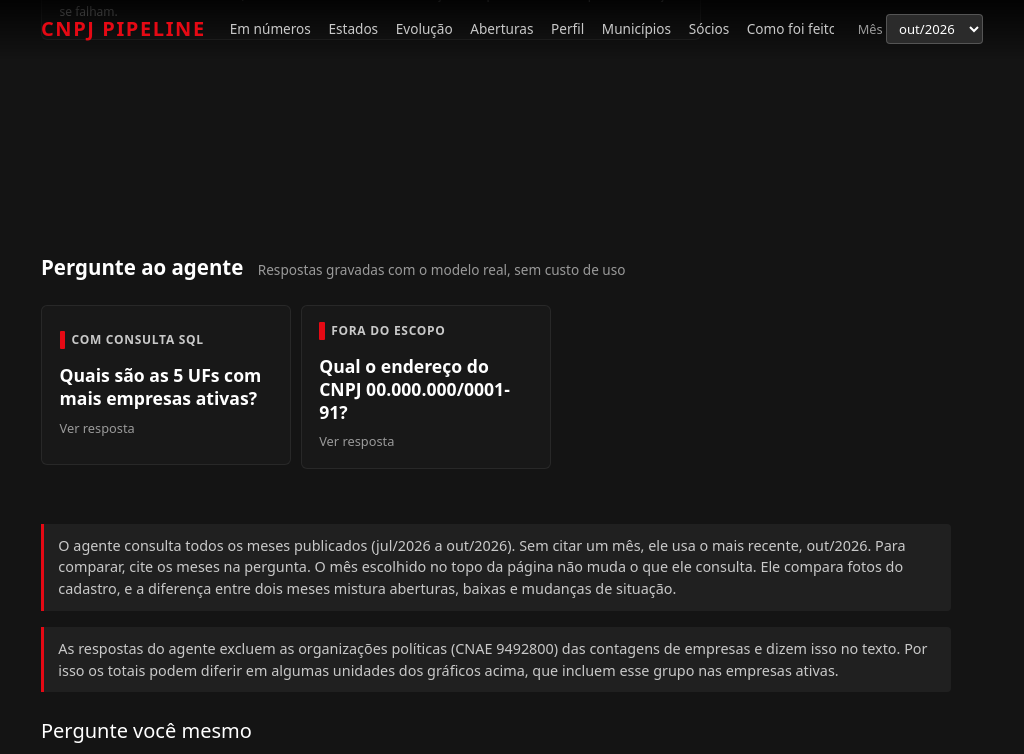
Scenario: agente › abre e fecha a resposta gravada, mostrando SQL e tabela como texto
(page scrolled)
Step 1. Click the button "Quais são as 5 UFs" → x=166, y=385, box [41,305,291,465]
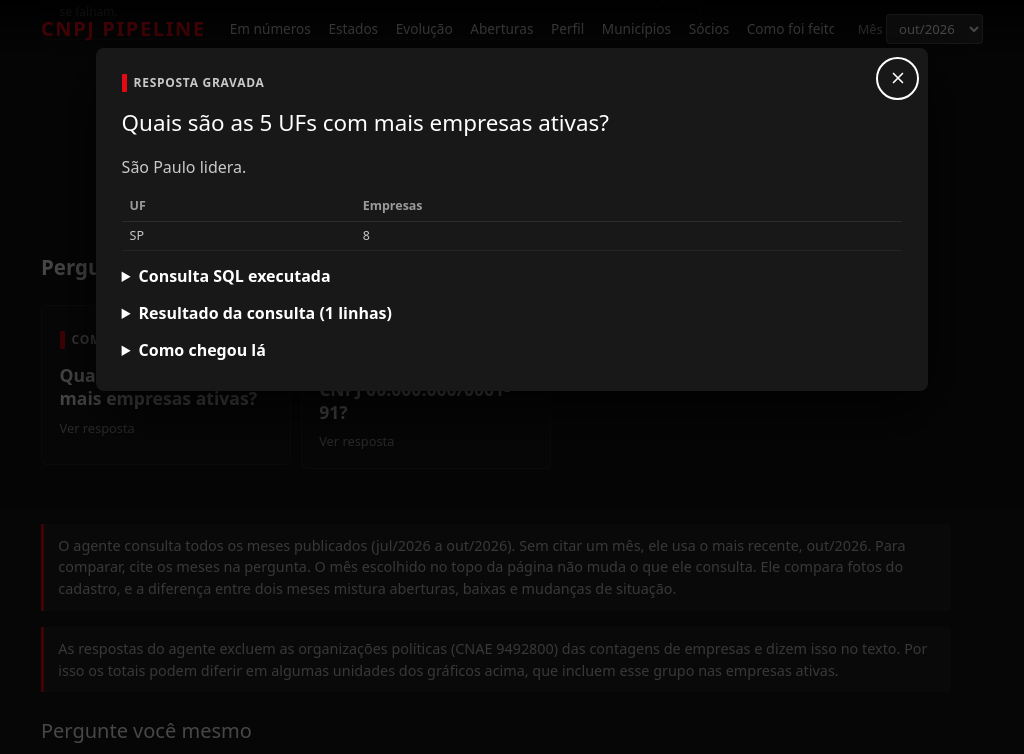
Now the text "São Paulo lidera." is shown, box [122,156,246,178]
Now the table is shown, box [122,191,902,251]
Step 2. Press Escape
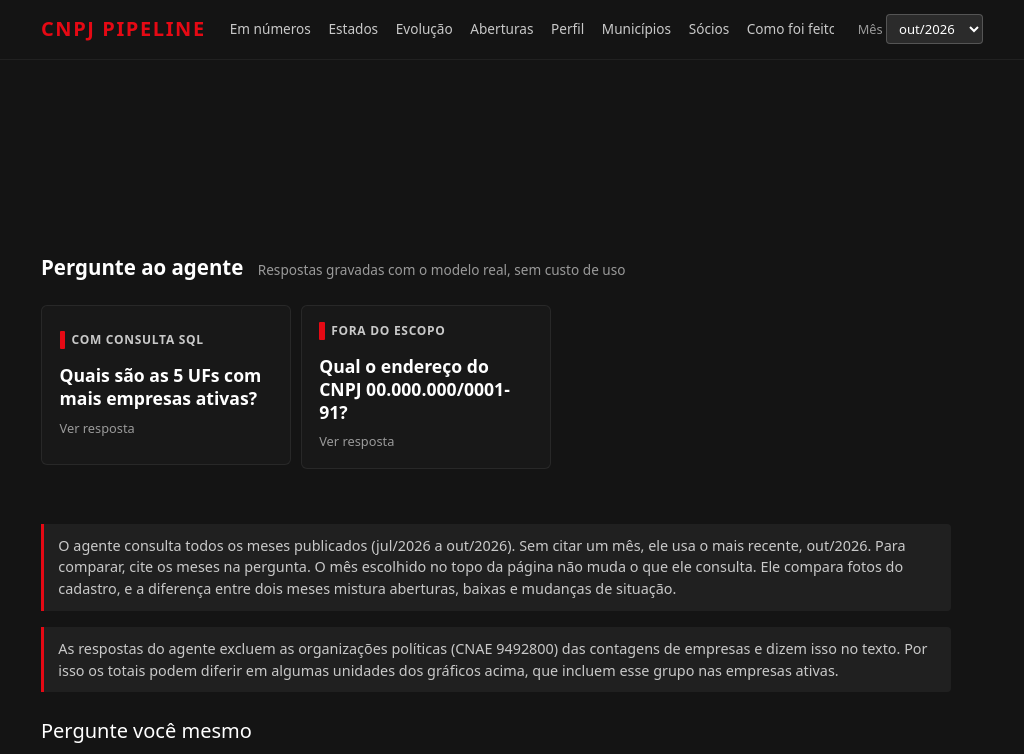
Now the dialog is gone
